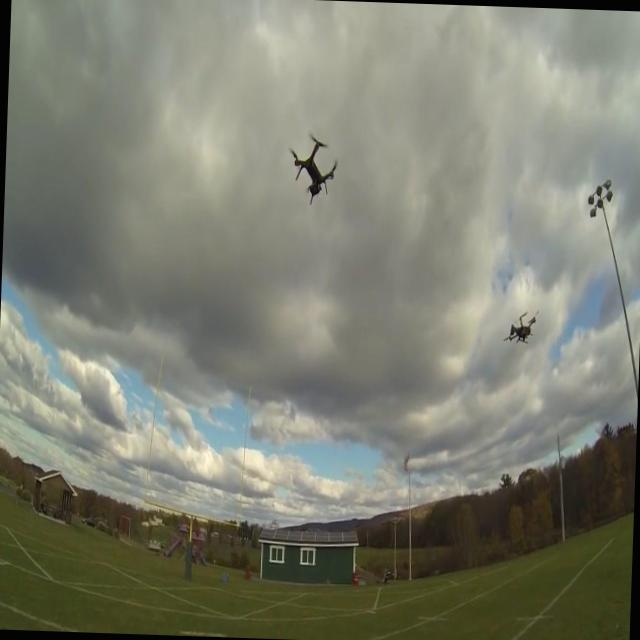drone: (289, 134, 337, 206), (500, 306, 540, 351)
